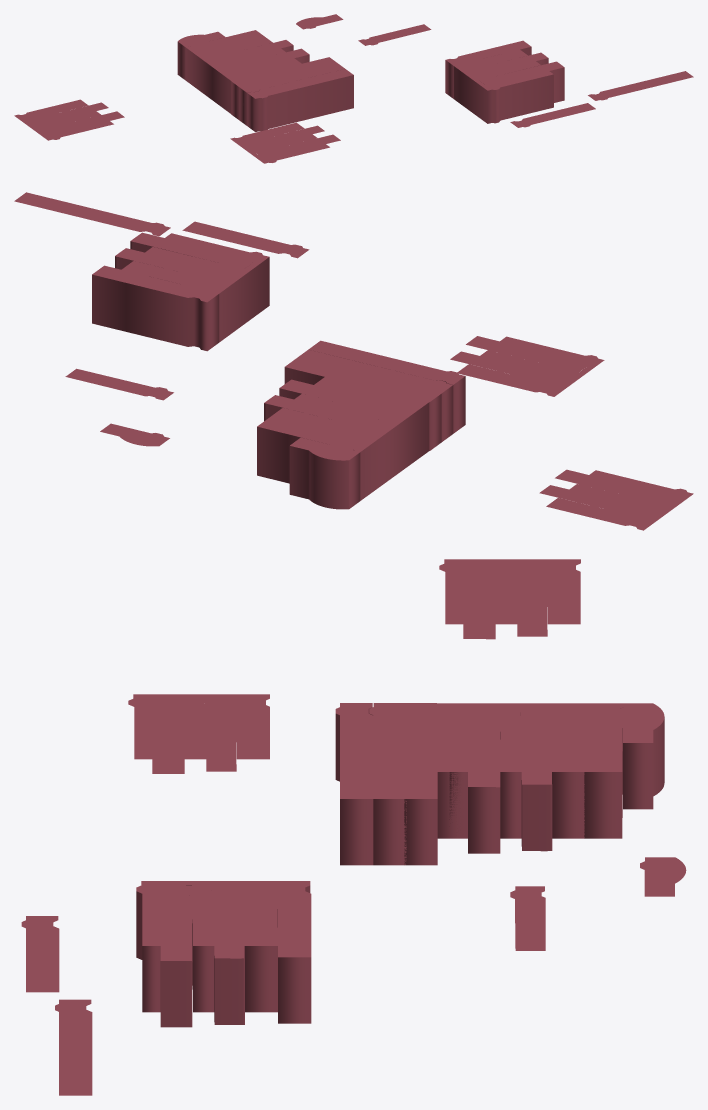
3 views of the same model, one above another, from view 1: azimuth 30°, elevation 25°; view 2: azimuth 150°, elevation 25°; view 3: azimuth 270°, elevation 25° (orthographic). The views are drawn at different scales.
Visible parts, largest first — view 1: Curve.009, Curve.029, Curve.021, Curve.007, Curve.020, Curve.035, Curve.043, Curve.008, Curve.006, Curve.038, Curve.042, Curve.032 (+10 smaller); view 2: Curve.021, Curve.008, Curve.009, Curve, Curve.020, Curve.043, Curve.035, Curve.007, Curve.029, Curve.038, Curve.032, Curve.006 (+10 smaller); view 3: Curve.009, Curve.021, Curve.043, Curve.029, Curve.020, Curve.035, Curve.007, Curve.038, Curve.008, Curve.006, Curve.042, Curve.005 (+10 smaller).
Part boxes in pixels (x1,y1,x2,y2): Curve.009: (453, 49, 553, 123); Curve.029: (247, 69, 353, 131); Curve.021: (185, 30, 302, 113); Curve.007: (230, 122, 329, 163); Curve.020: (14, 99, 113, 140); Curve.035: (231, 57, 336, 119); Curve.043: (200, 37, 285, 76); Curve.008: (445, 40, 531, 98); Curve.006: (480, 61, 564, 102); Curve.038: (239, 63, 344, 125); Curve.042: (225, 48, 309, 72); Curve.032: (588, 71, 693, 100); Curve.021: (257, 375, 430, 500); Curve.008: (92, 265, 219, 351); Curve.009: (121, 233, 269, 342); Curve: (289, 437, 360, 509); Curve.020: (546, 470, 693, 530); Curve.043: (271, 380, 417, 439); Curve.035: (284, 358, 441, 450); Curve.007: (457, 336, 604, 396); Curve.029: (308, 340, 465, 433); Curve.038: (296, 349, 453, 441); Curve.032: (14, 192, 170, 236); Curve.006: (130, 232, 255, 268); Curve.009: (136, 881, 278, 1012); Curve.021: (431, 703, 623, 838); Curve.043: (443, 707, 585, 838); Curve.029: (335, 703, 373, 865); Curve.020: (439, 559, 580, 624); Curve.035: (400, 703, 437, 865); Curve.007: (128, 694, 269, 759); Curve.038: (369, 703, 406, 865); Curve.008: (273, 881, 311, 1023); Curve.006: (156, 885, 192, 1027); Curve.042: (463, 711, 500, 853); Curve.005: (209, 886, 244, 1024).
Size of the model in its own units: 34.61 by 2 by 18.12.
